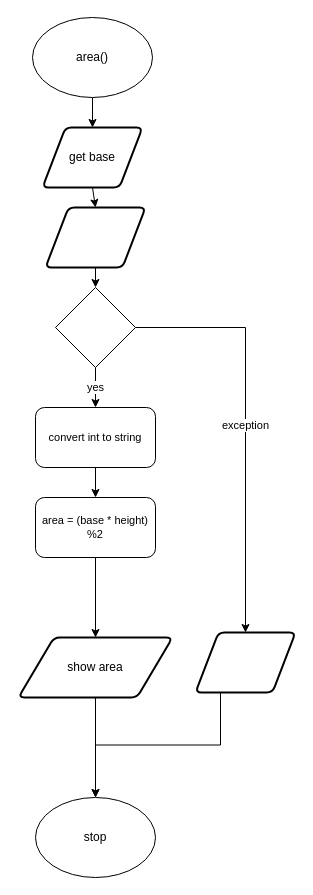
Some shapes in this 313 by 895 pixel diagram are drawn without their labels. Each missing label, with the centre of its shape:
"get height" belongs at point (95, 237).
"show not a number" belongs at point (245, 662).
"try" belongs at point (95, 327).
